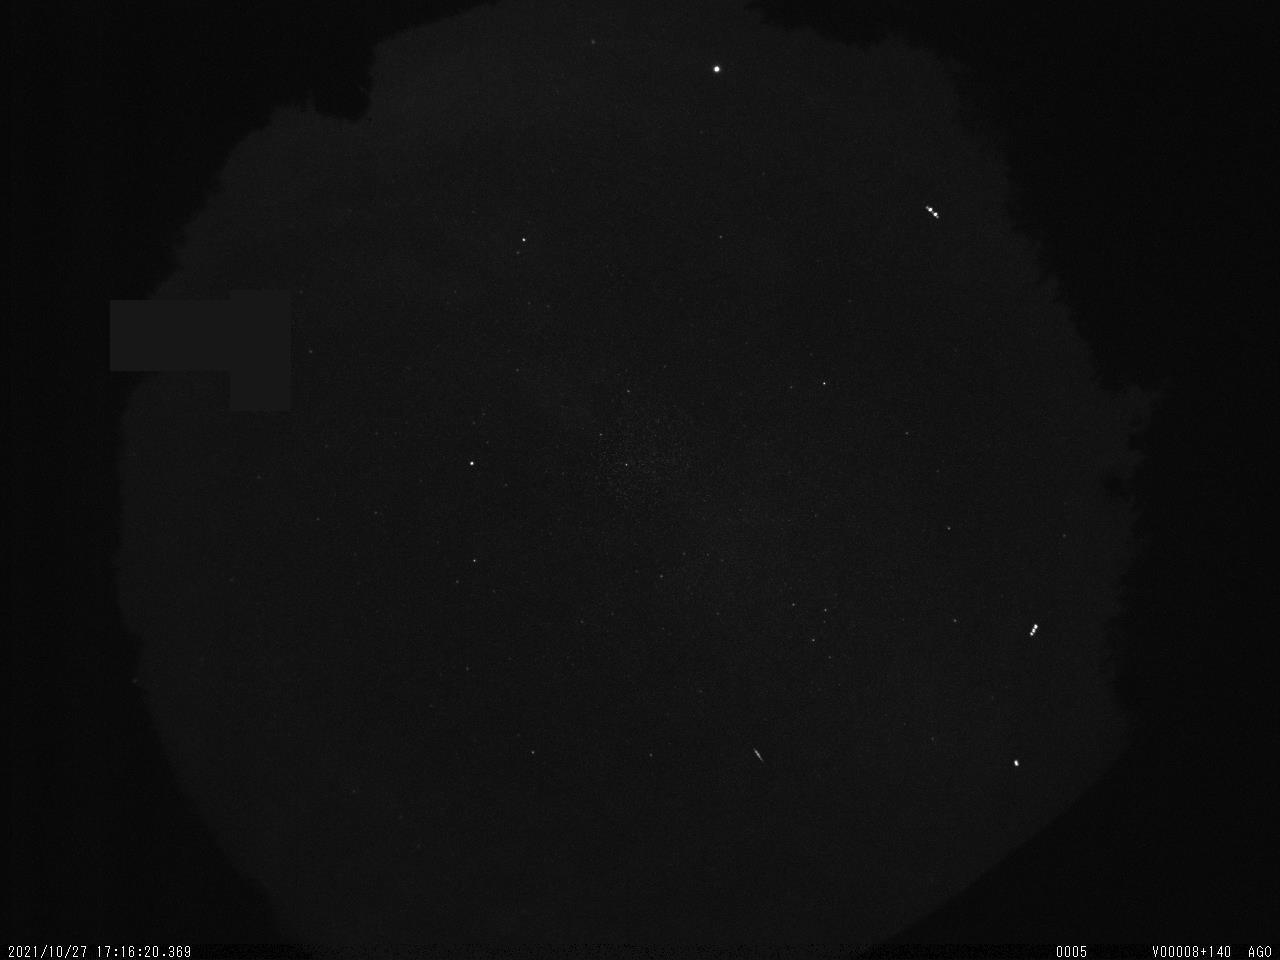meteor: (742, 738, 779, 774)
